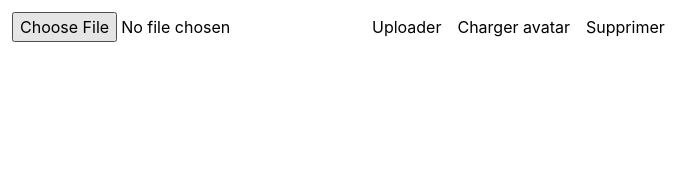
Test: ProfileAvatar › deletes avatar and clears preview
Click the button "Charger avatar" at (514,27), box [458,15,570,39]
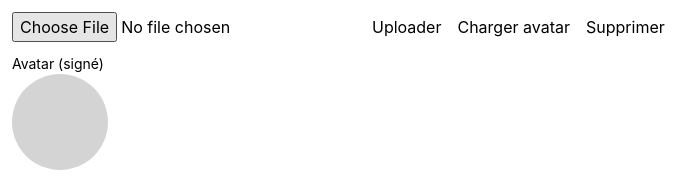
Click the button "Supprimer" at (625,27), box [586,15,665,39]
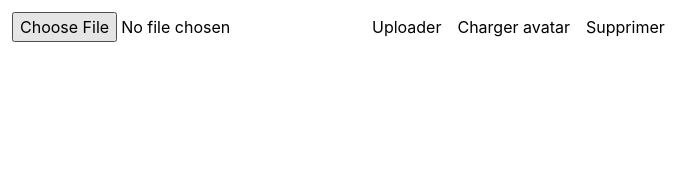
Now the picture with alt text "avatar" is gone
